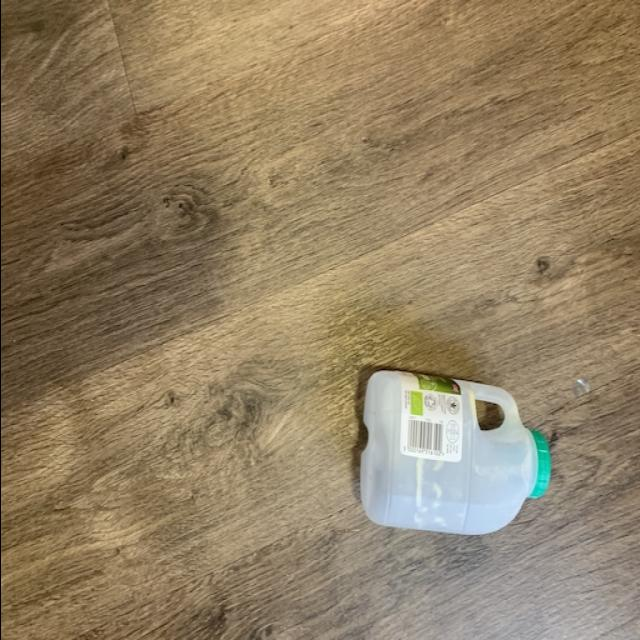HDPEM: (348, 373, 558, 535)
